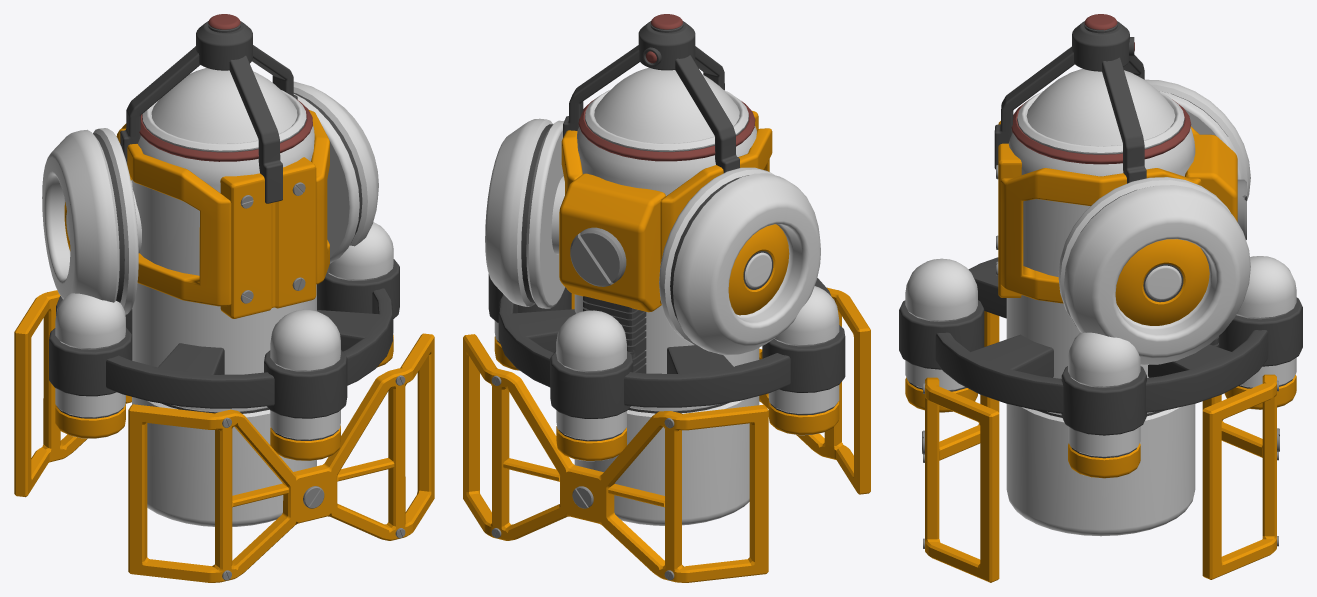
The model's file is env_propanestation_structure04.fbx.
3 views of the same model, side by side, from view 1: azimuth 30°, elevation 25°; view 2: azimuth 150°, elevation 25°; view 3: azimuth 270°, elevation 25° (orthographic).
Visible parts, largest first — view 1: pCylinder43; view 2: pCylinder43; view 3: pCylinder43.
Boxes of the visible parts, bbox=[...] form: pCylinder43: bbox=[14, 14, 434, 582]; pCylinder43: bbox=[463, 14, 870, 582]; pCylinder43: bbox=[899, 14, 1302, 582].
Size of the model in its own units: 204 by 272 by 204.
